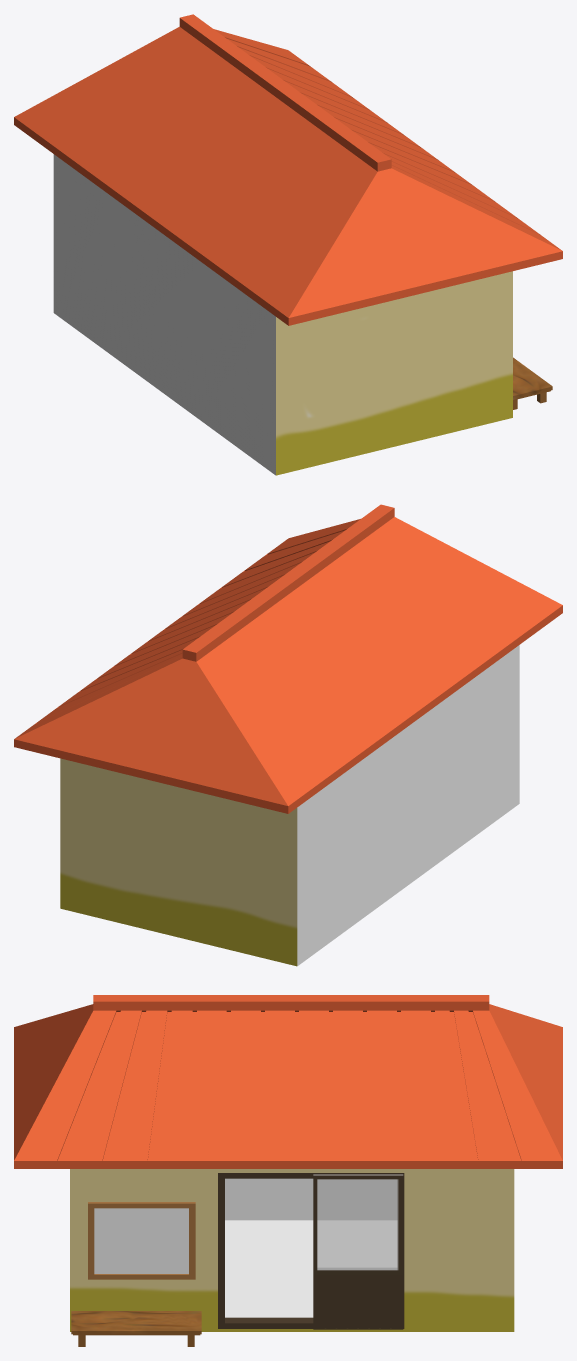
The model's file is house.fbx.
The picture shows the model from 3 angles, top to bottom: view 1: azimuth 30°, elevation 25°; view 2: azimuth 150°, elevation 25°; view 3: azimuth 270°, elevation 25°; orthographic projection.
Visible parts, largest first — view 1: Cube.005, Cube, Cube.001; view 2: Cube.005, Cube; view 3: Cube.005, Cube, Cube.004, Cube.002, Cube.001, Cube.003.
Part boxes in pixels (x1,y1,x2,y2): Cube.005: (14,14,562,325); Cube: (53,154,512,475); Cube.001: (513,357,552,409); Cube.005: (14,504,562,813); Cube: (60,645,519,966); Cube.005: (14,995,562,1168); Cube: (70,1169,514,1331); Cube.004: (313,1174,403,1329); Cube.002: (88,1202,195,1279); Cube.001: (71,1311,201,1346); Cube.003: (218,1173,404,1328).
Size of the model in its own units: 2115 by 1910 by 3435.
